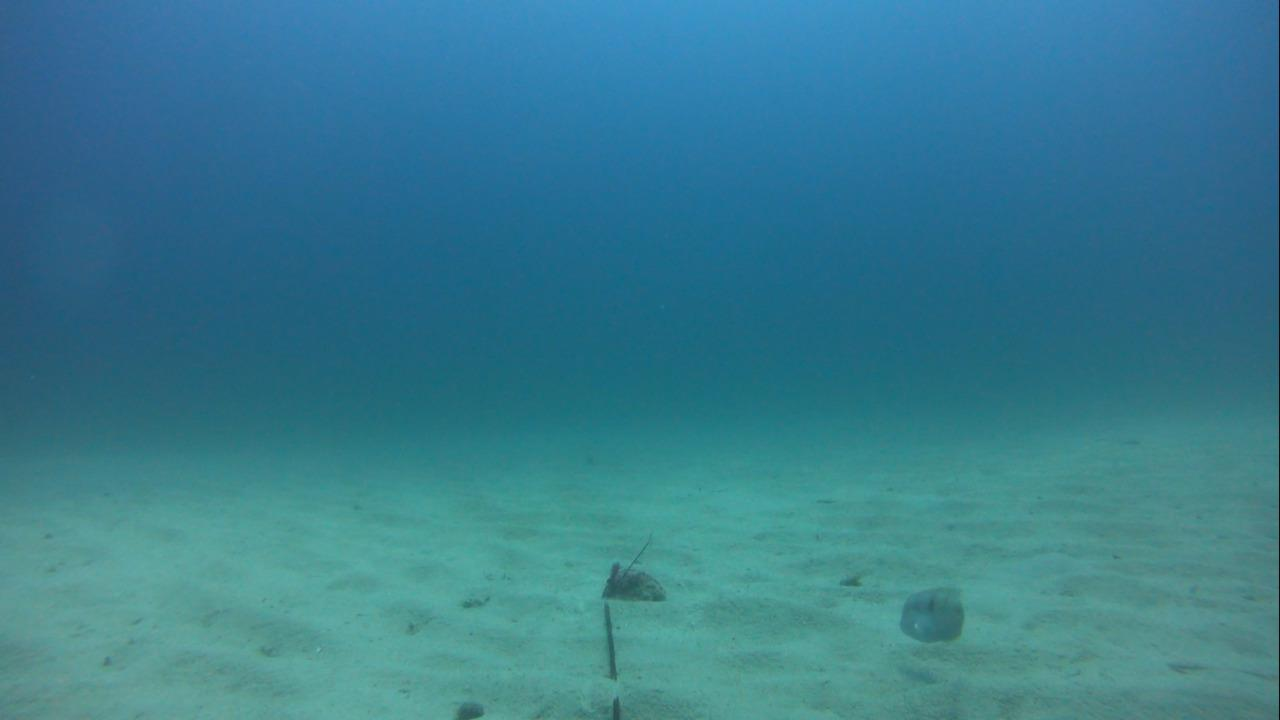raor: (891, 581, 973, 643)
